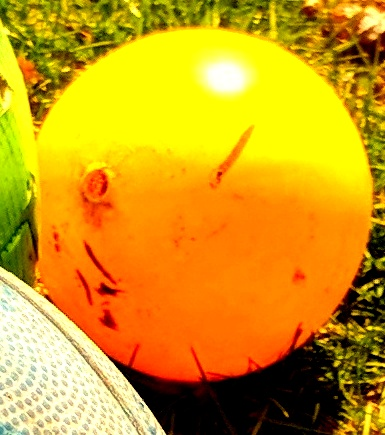ball: (29, 26, 377, 379)
